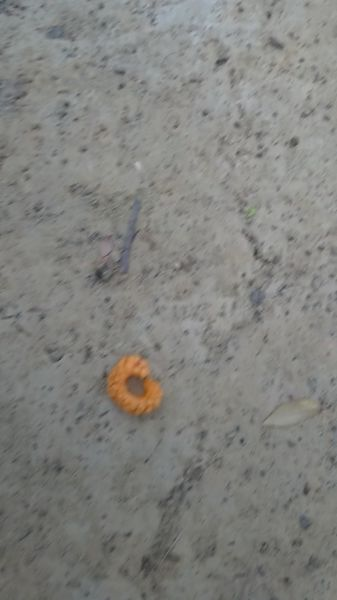eggs: (102, 352, 168, 417)
